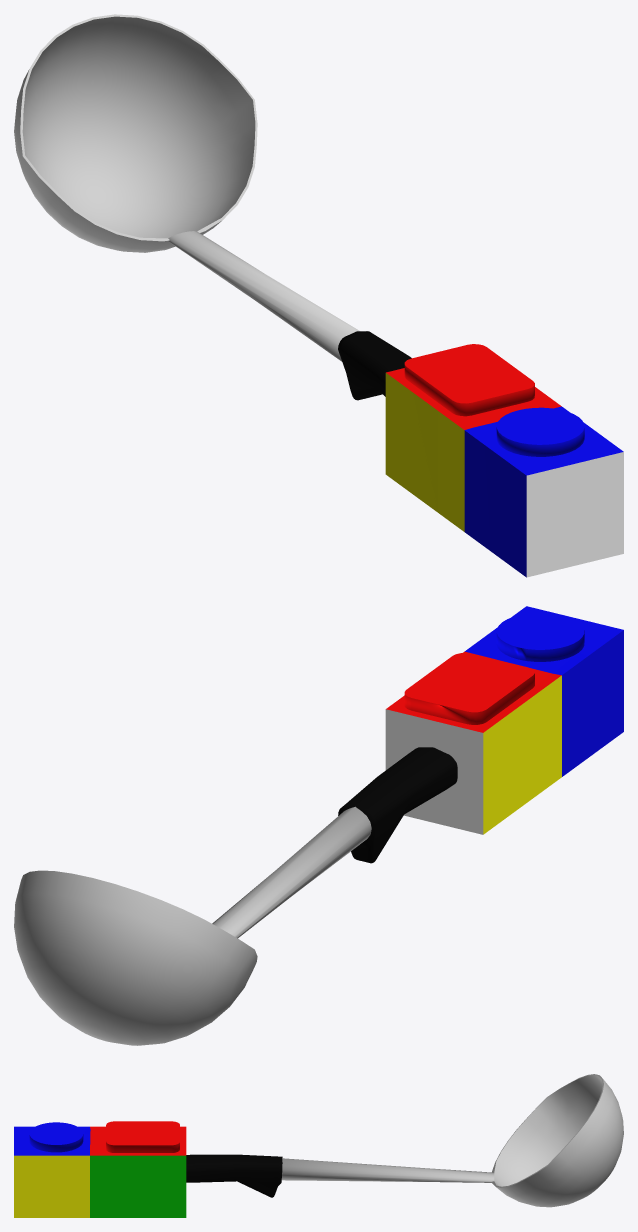
The model's file is ladle.obj.
The picture shows the model from 3 angles, top to bottom: view 1: azimuth 30°, elevation 25°; view 2: azimuth 150°, elevation 25°; view 3: azimuth 270°, elevation 25°; orthographic projection. The views are drawn at different scales.
Parts seen in each view (by area): view 1: Ladle_Plane.001; view 2: Ladle_Plane.001; view 3: Ladle_Plane.001.
Part boxes in pixels (x1,y1,x2,y2): Ladle_Plane.001: (14, 14, 623, 577); Ladle_Plane.001: (14, 606, 623, 1045); Ladle_Plane.001: (14, 1074, 623, 1217).
Bounding box in the file's own units: 0.0953 × 0.0766 × 0.3547.
3 materials, 1 textured.
